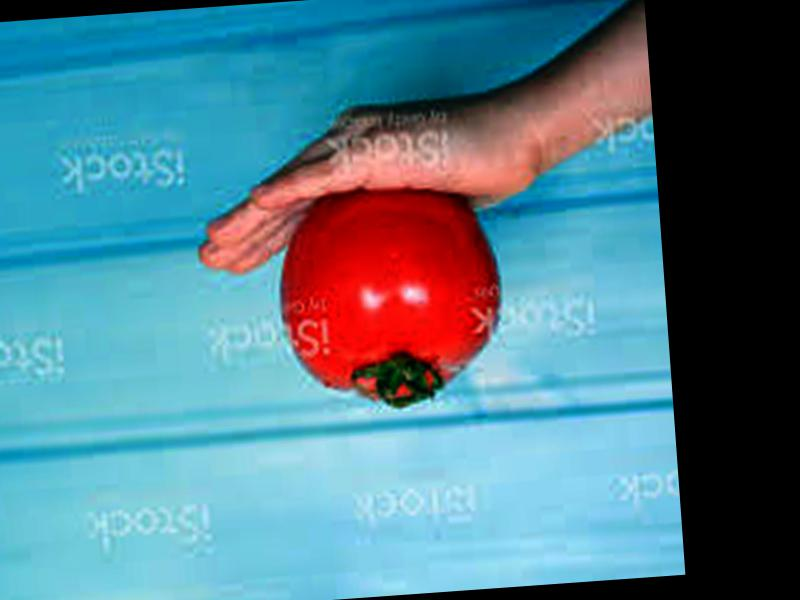Tomato: (272, 180, 502, 411)
